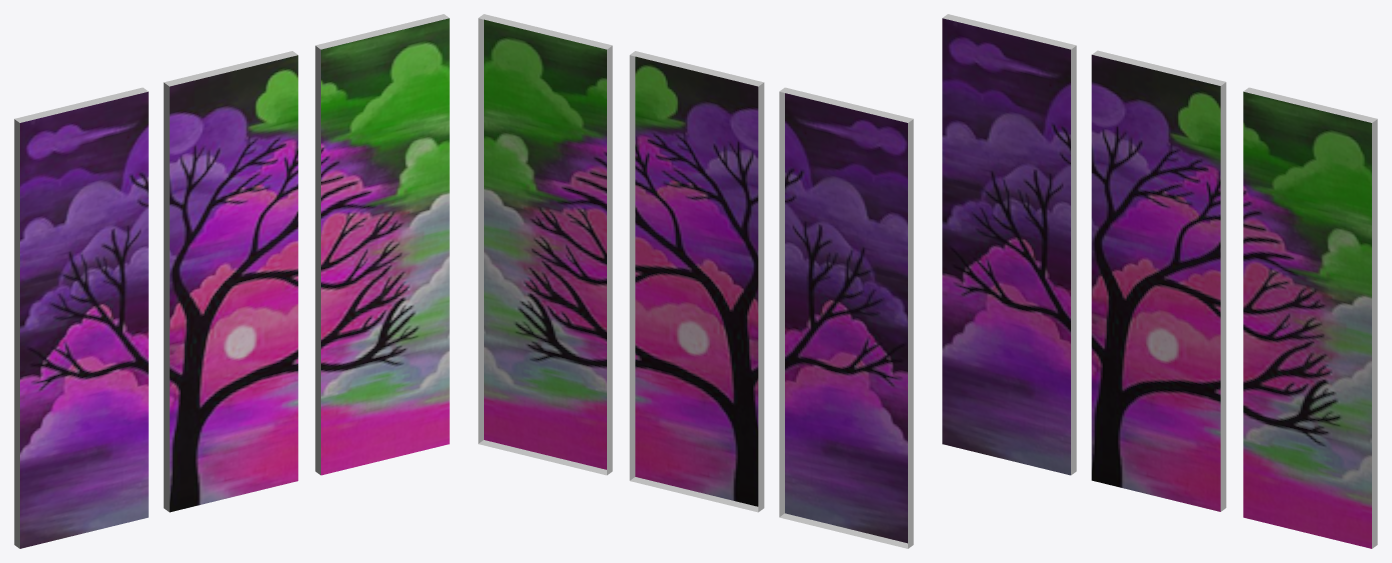
Rendered from painting4.FBX.
3 views of the same model, side by side, from view 1: azimuth 30°, elevation 25°; view 2: azimuth 150°, elevation 25°; view 3: azimuth 330°, elevation 25° (orthographic).
Visible parts, largest first — view 1: painting4; view 2: painting4; view 3: painting4.
Boxes of the visible parts, left/top/right/bottom form: painting4: left=14, top=14, right=449, bottom=548; painting4: left=478, top=14, right=913, bottom=548; painting4: left=942, top=14, right=1377, bottom=548.
Bounding box in the file's own units: 38.66 × 0.8936 × 36.6.
